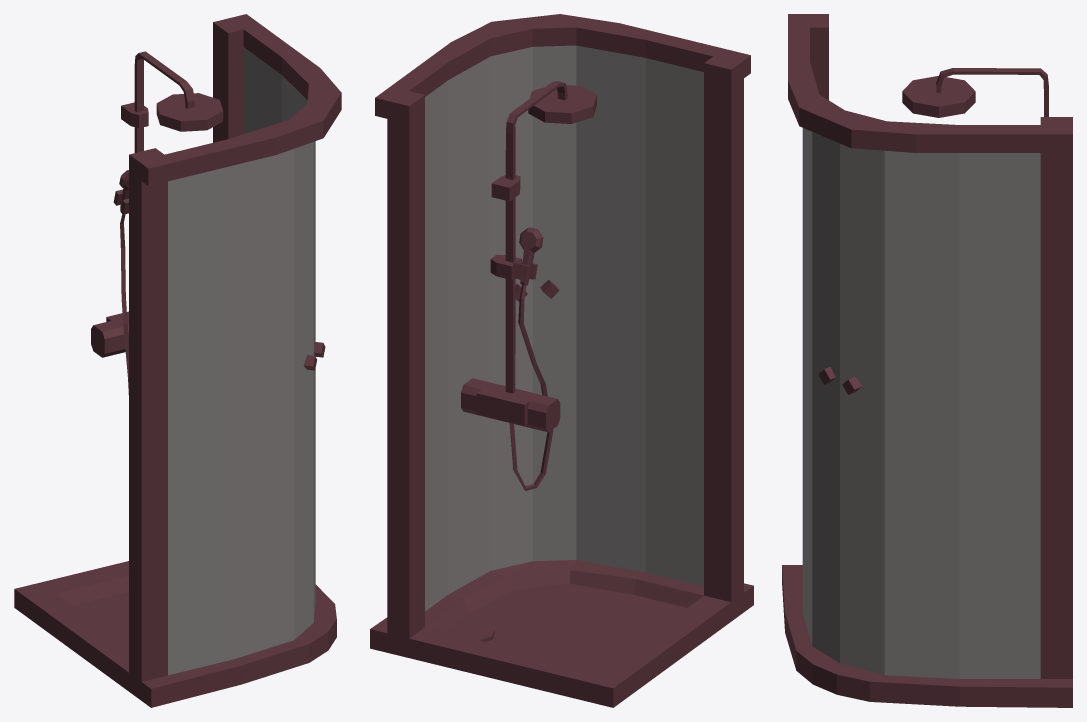
Rendered from shower-enclosure-curved-closed.fbx.
3 views of the same model, side by side, from view 1: azimuth 30°, elevation 25°; view 2: azimuth 150°, elevation 25°; view 3: azimuth 270°, elevation 25° (orthographic). The views are drawn at different scales.
Parts seen in each view (by area): view 1: shower-enclosure-curved-closed; view 2: shower-enclosure-curved-closed; view 3: shower-enclosure-curved-closed.
Part boxes in pixels (left/top/right/bottom): shower-enclosure-curved-closed: left=14, top=14, right=341, bottom=707; shower-enclosure-curved-closed: left=370, top=14, right=753, bottom=707; shower-enclosure-curved-closed: left=782, top=14, right=1072, bottom=707.
Bounding box in the file's own units: 0.99 × 2.16 × 0.99.
